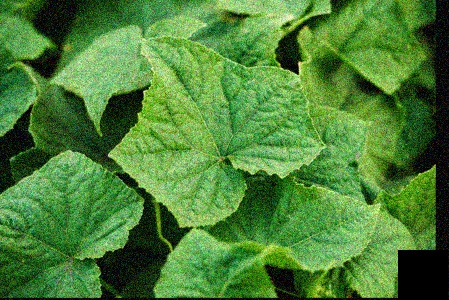cucumber_plant: (116, 31, 380, 297)
